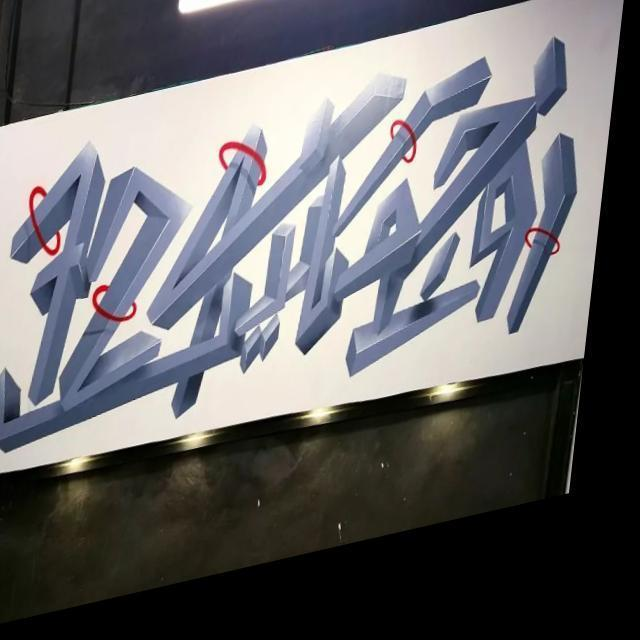nonspitting: (0, 36, 587, 451)
